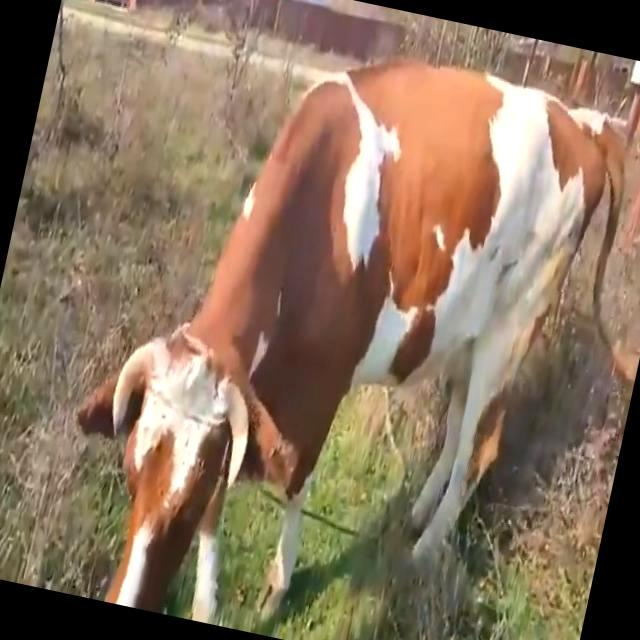COW: (78, 60, 623, 619)
